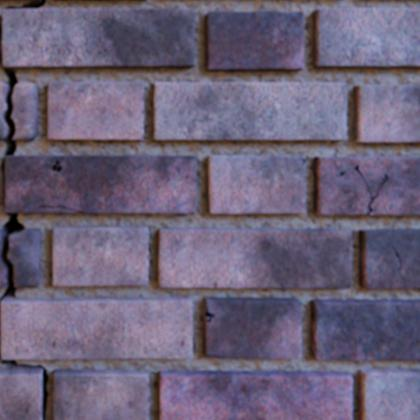brick: (1, 297, 191, 358), (3, 9, 193, 69), (157, 228, 350, 287), (5, 155, 195, 213), (153, 83, 345, 140), (158, 369, 351, 419), (310, 298, 419, 360), (312, 9, 419, 68), (313, 157, 419, 214), (203, 296, 300, 358), (205, 12, 302, 71), (207, 155, 304, 213), (53, 226, 147, 285), (48, 82, 143, 140), (53, 368, 148, 419), (353, 85, 419, 142), (358, 228, 419, 288), (357, 368, 419, 419), (0, 368, 42, 419), (54, 0, 145, 1), (0, 0, 39, 1)
broken_brick: (8, 228, 40, 286), (11, 83, 38, 140), (0, 83, 7, 140), (0, 261, 7, 287), (0, 236, 1, 250)
crack: (0, 352, 48, 419), (0, 212, 24, 314), (3, 67, 18, 206), (353, 164, 387, 214), (6, 0, 45, 9), (392, 248, 401, 278), (63, 206, 84, 213), (205, 307, 214, 320), (52, 160, 62, 171), (0, 15, 2, 65), (205, 354, 224, 357), (39, 205, 61, 207)
